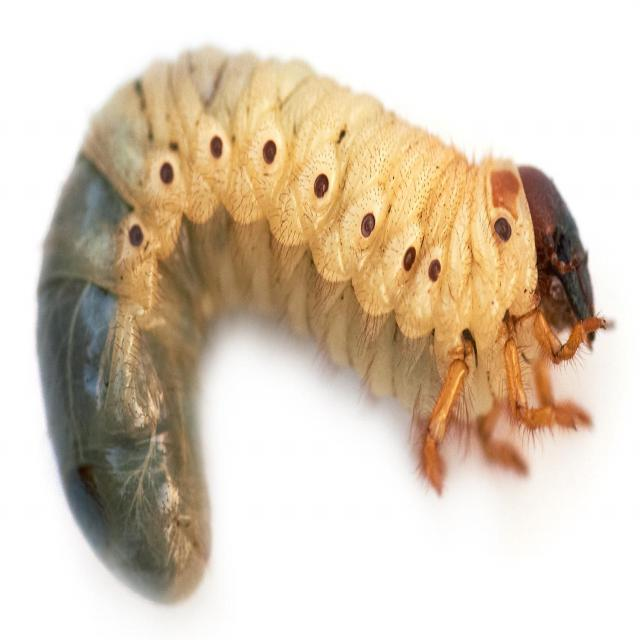Grub-Adult-: (37, 28, 620, 608)
